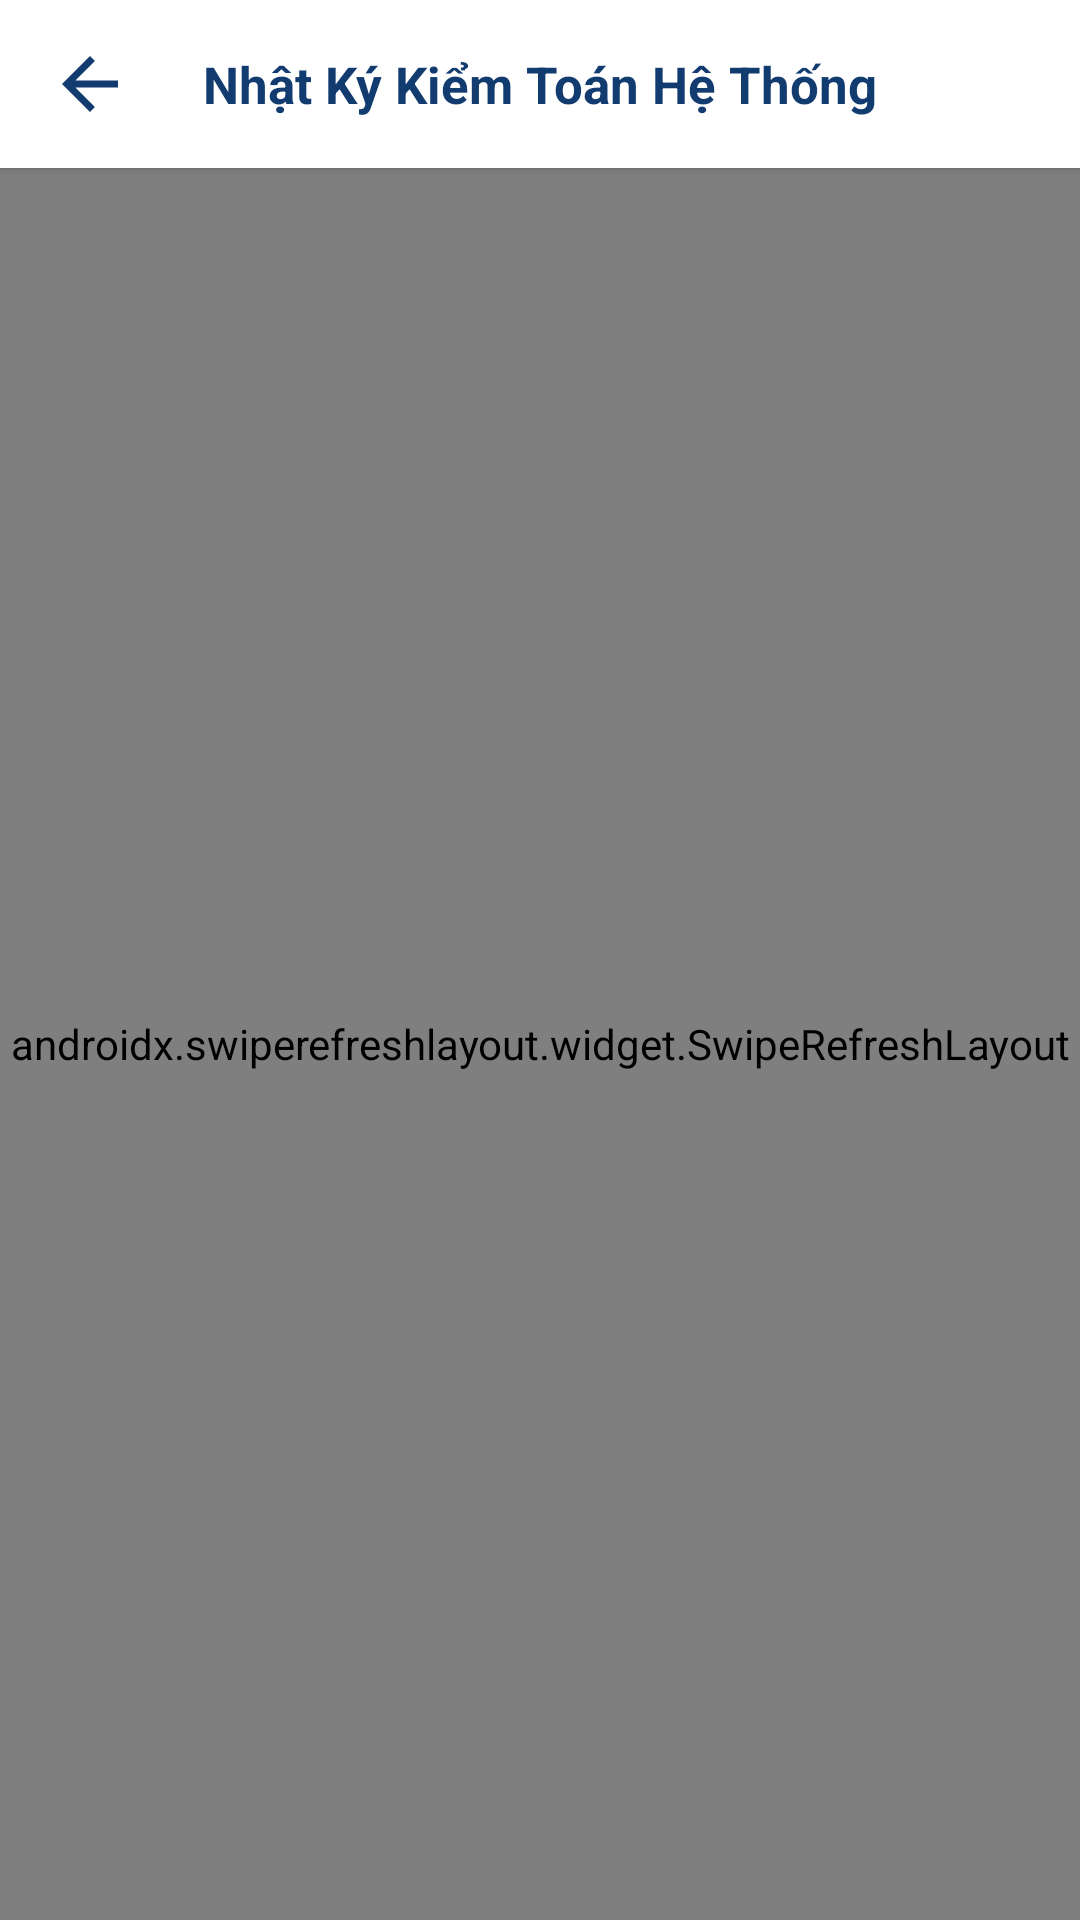

Named icons in this screenshot (1080px×1920px) and their centers, (x,y):
arrow back: (90,84)
